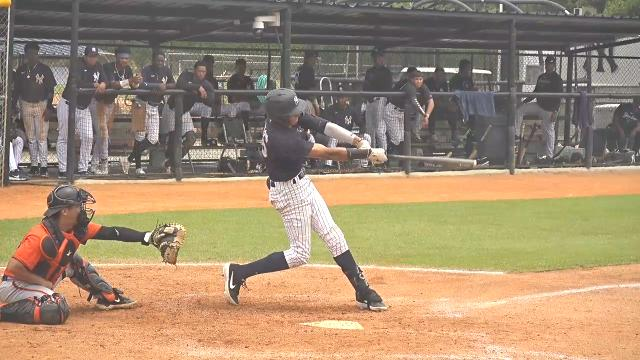bat: (384, 156, 478, 166)
